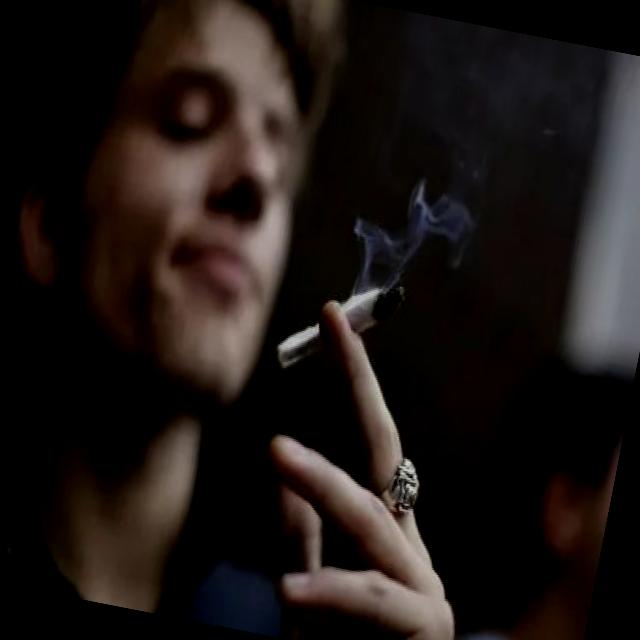cigarette: (268, 257, 414, 399)
